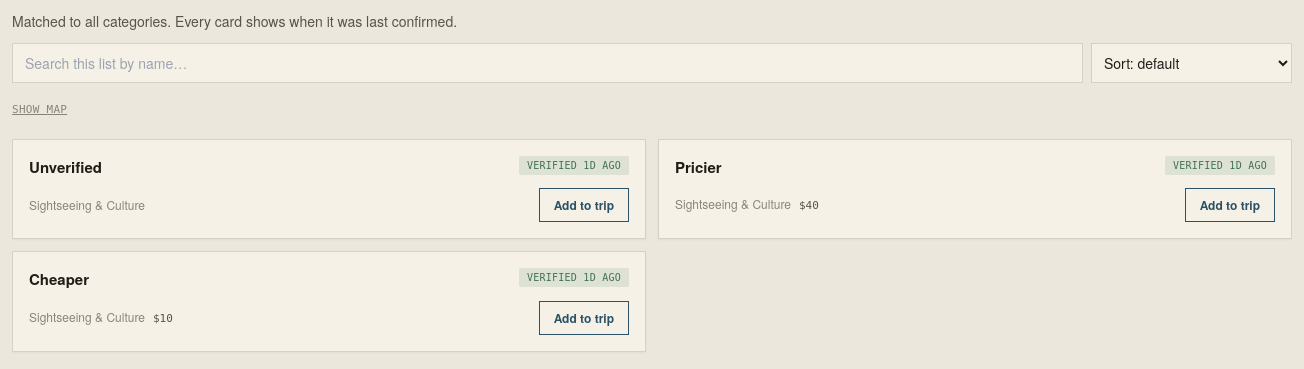
DiscoverScreen › sorts by price low to high, keeping unverified prices at the end rather than treating them as free
Expected: the heading "Unverified" is shown, [29,156,102,178]
Select "Sort: price, low to high" in the dropdown named "Sort by" at (1192, 63), box [1091,43,1292,83]
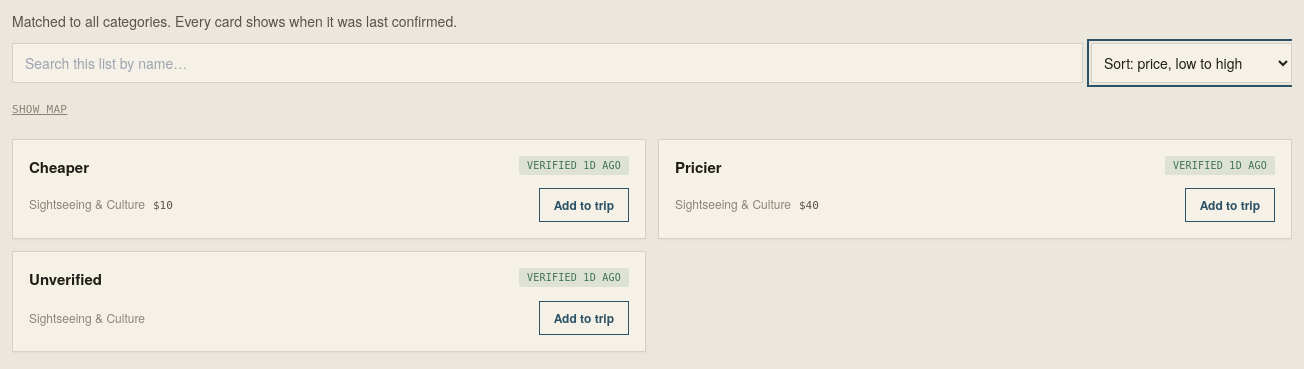
Now the headings read "Cheaper", "Pricier", "Unverified", in this order, box [29,156,89,178]; [675,156,722,178]; [29,268,102,290]
